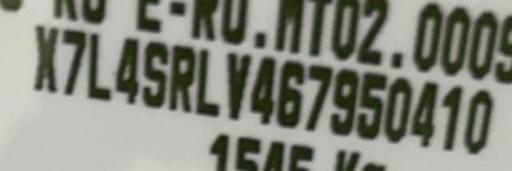letter: (355, 72, 389, 141), (380, 76, 414, 143), (166, 44, 198, 115), (328, 67, 360, 136), (248, 56, 278, 129), (275, 57, 305, 130), (408, 80, 440, 147), (461, 87, 493, 153), (306, 60, 334, 135), (140, 38, 168, 111), (60, 27, 88, 96), (32, 22, 58, 95), (114, 34, 140, 107), (195, 46, 221, 117), (226, 51, 252, 122), (87, 32, 113, 101), (439, 83, 463, 154)
